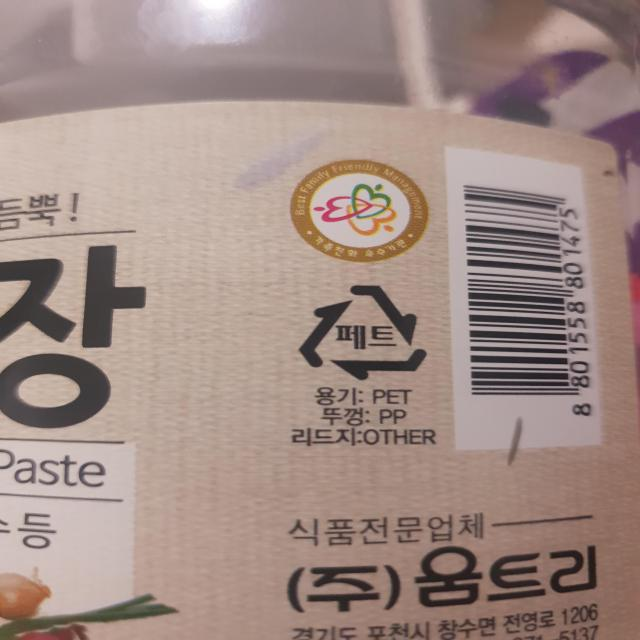PET: (292, 278, 432, 384)
